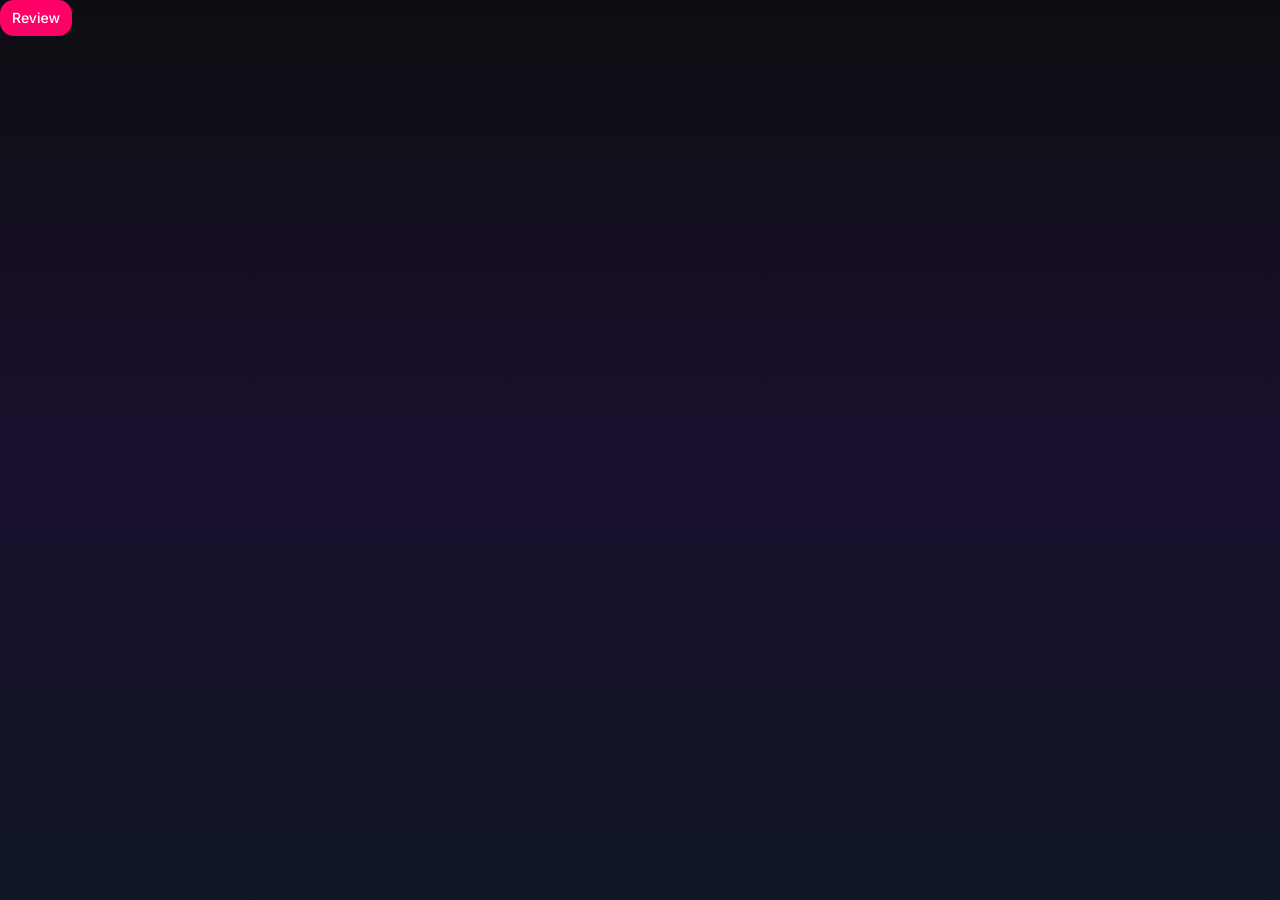
Test: change request review dialog › blocks approval when the release changed after submission
Click the button "Review".
click(36, 18)  # box [0,0,72,36]
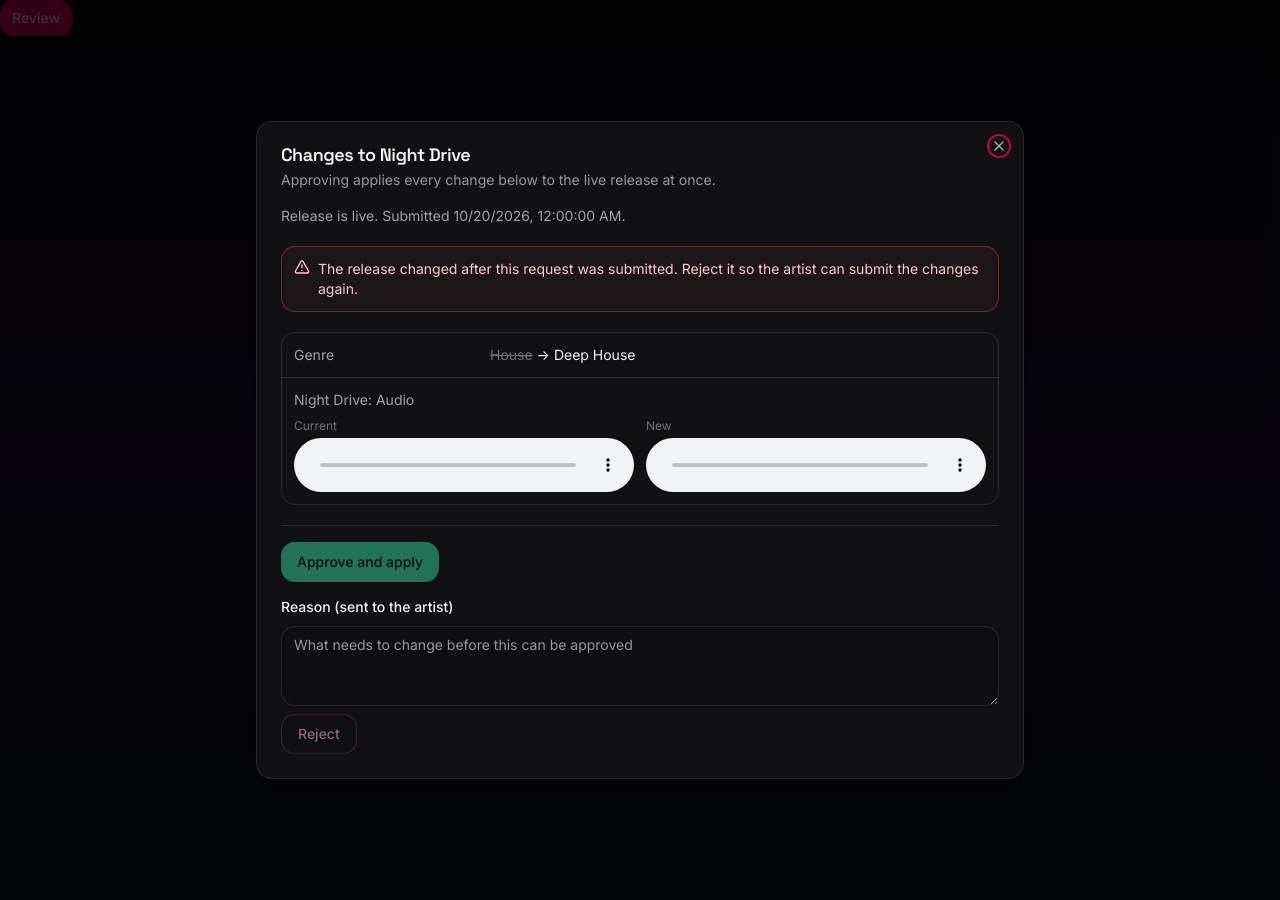
Check: the text "Deep House" is shown, box [554,346,636,363]
Check: the text "The release changed after this request was submitted" is shown, box [318,260,979,297]
Check: the button "Approve and apply" is disabled, box [281,542,439,582]
